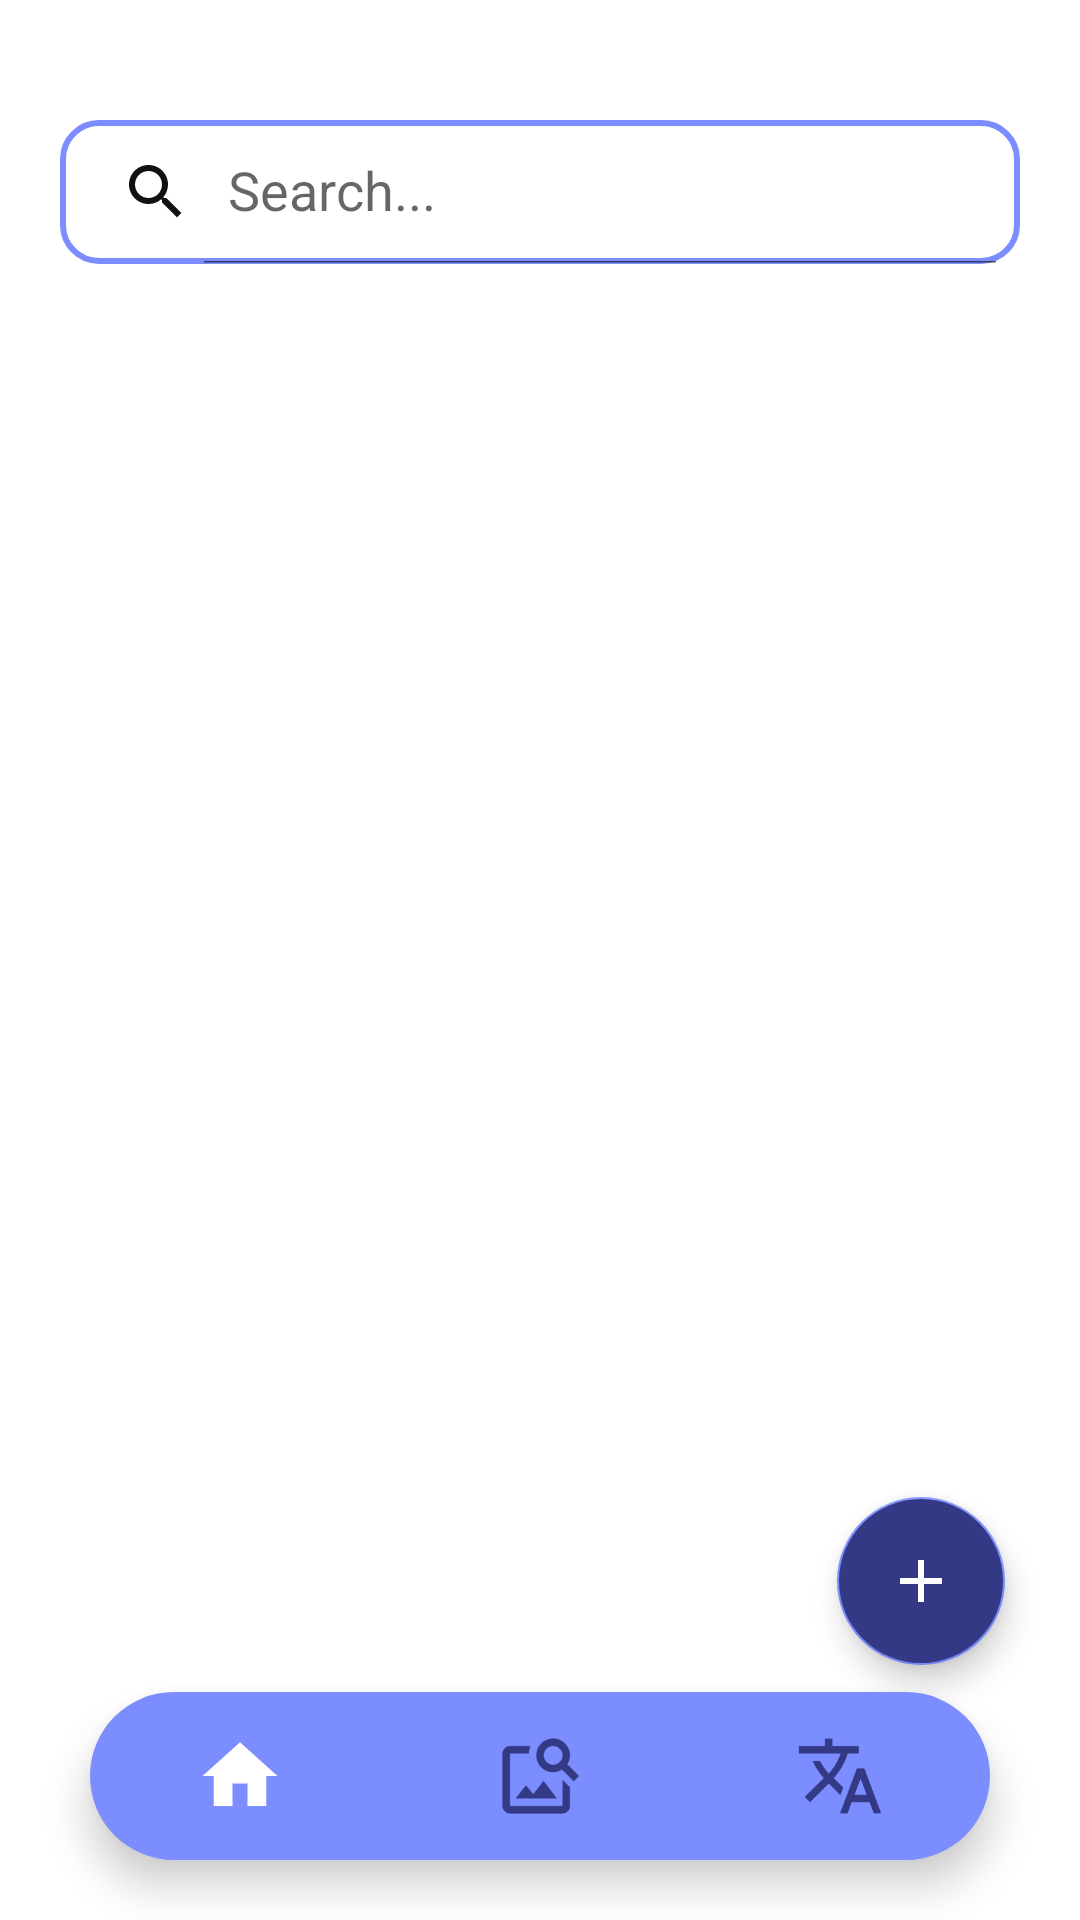

Icons on this 1080 x 1920 Android screen, each with the point to tap as point (x, y):
Add note: point (921, 1581)
